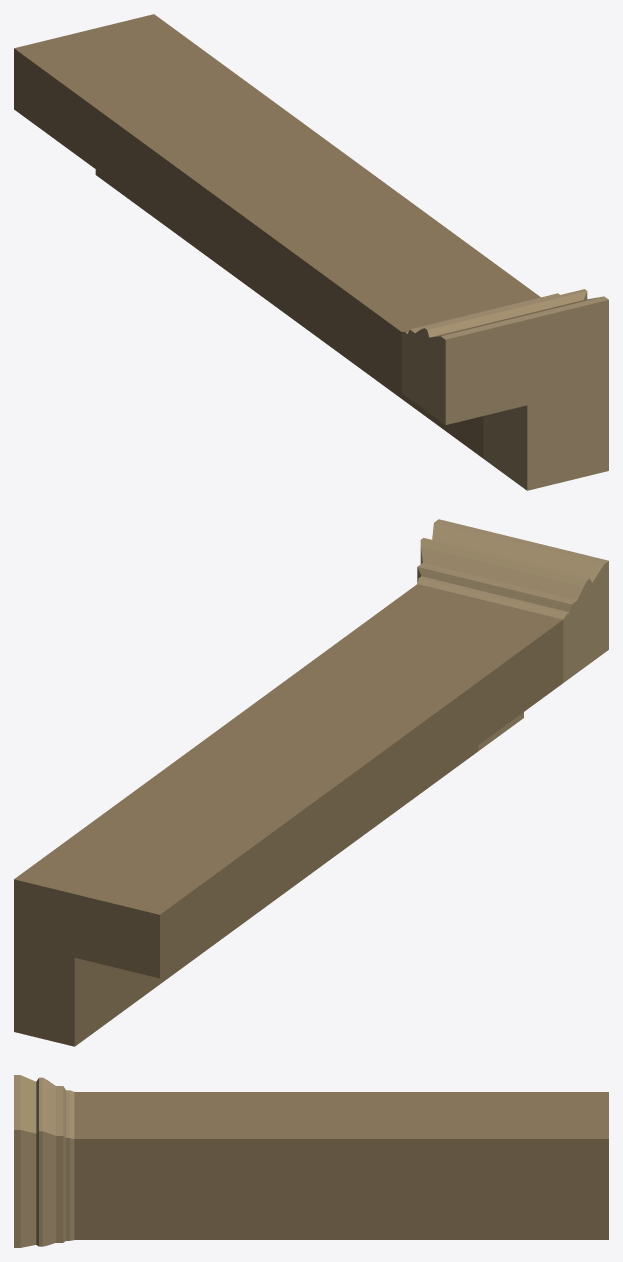
The model's file is T05_L_Wall_Corner.obj.
The picture shows the model from 3 angles, top to bottom: view 1: azimuth 30°, elevation 25°; view 2: azimuth 150°, elevation 25°; view 3: azimuth 270°, elevation 25°; orthographic projection. The views are drawn at different scales.
Visible parts, largest first — view 1: T05_L_Wall_Corner; view 2: T05_L_Wall_Corner; view 3: T05_L_Wall_Corner.
Boxes of the visible parts, left/top/right/bottom form: T05_L_Wall_Corner: left=14, top=14, right=608, bottom=490; T05_L_Wall_Corner: left=14, top=519, right=608, bottom=1046; T05_L_Wall_Corner: left=14, top=1075, right=608, bottom=1247.
Size of the model in its own units: 1.4 by 1.4 by 6.4.
